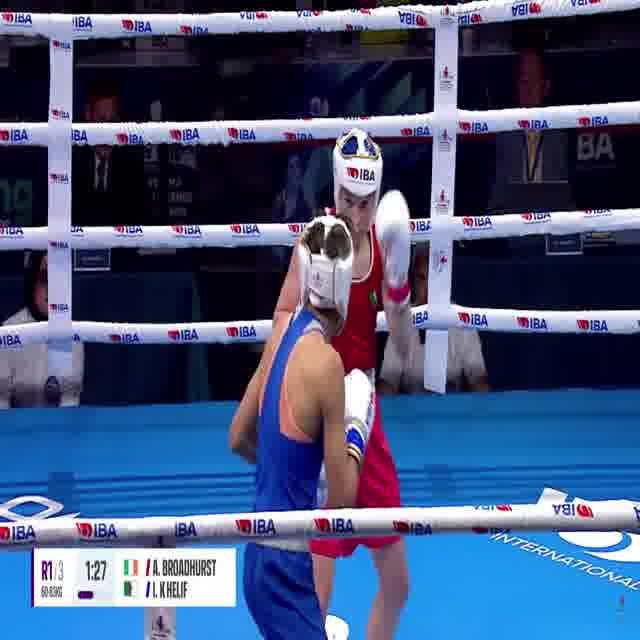blue-player: (222, 207, 380, 640)
red-player: (272, 126, 418, 640)
